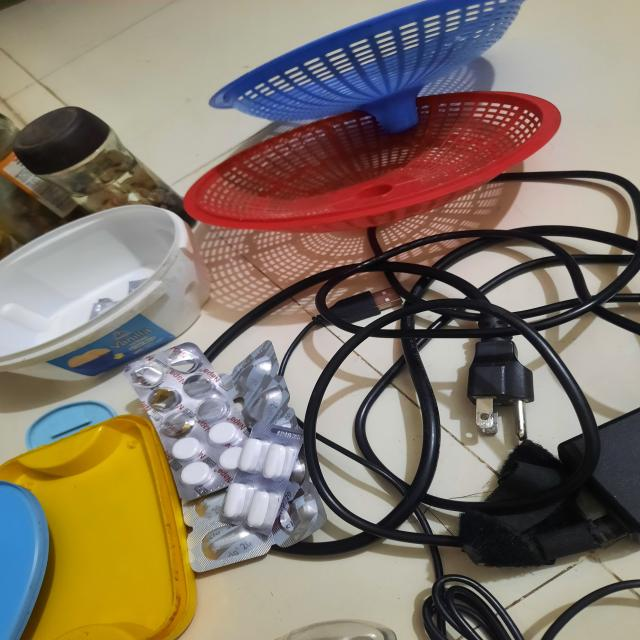Cable: (339, 230, 640, 638)
Medical Waste: (154, 323, 334, 575)
Plastics: (164, 0, 607, 233), (0, 411, 197, 639), (0, 189, 203, 360)
